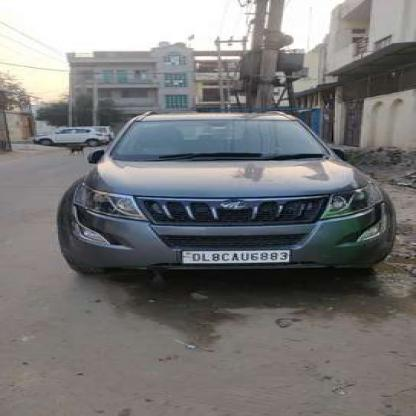license_plate: (179, 248, 289, 263)
